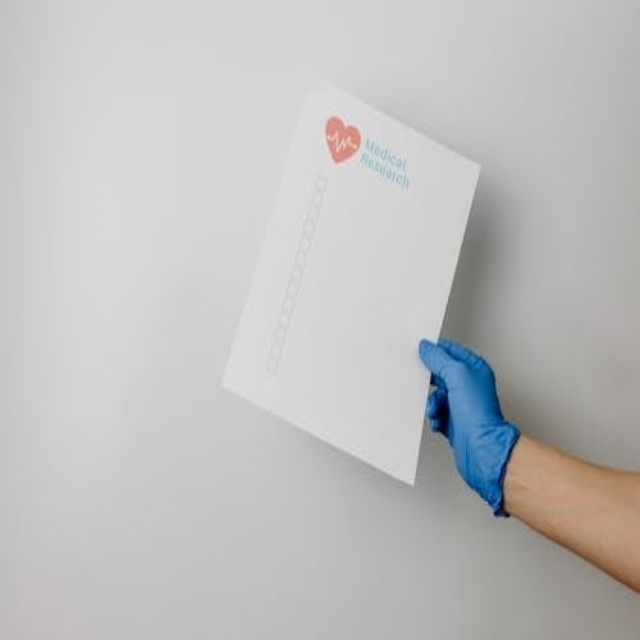Guantes: (417, 337, 522, 518)
